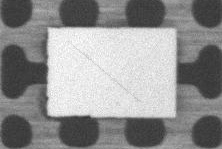DIE_CRACK: (101, 28, 212, 69)
